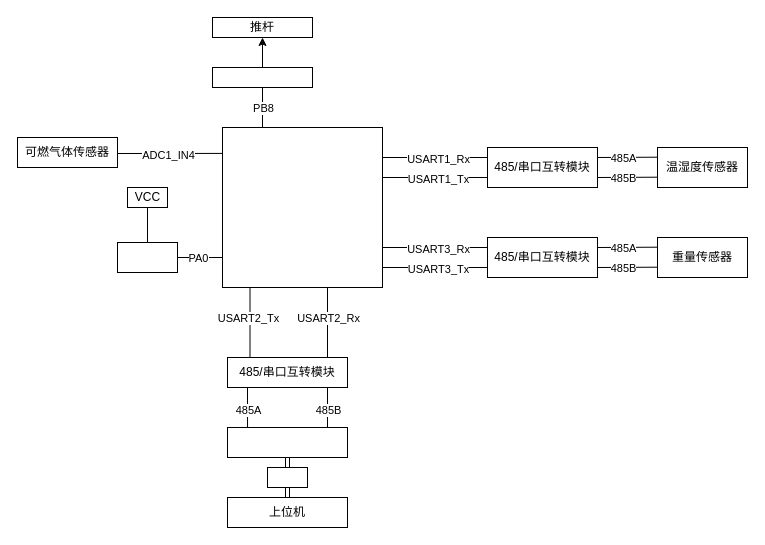
The diagram is 765 pixels wide and 545 high, and some of its shapes have lost their labels. The centre of each missing label's shape, as x and y in pixels:
485/USB互转模块: the point at 287,442
MCU: the point at 302,207
USB: the point at 287,477
按键: the point at 147,257
继电器: the point at 262,77
